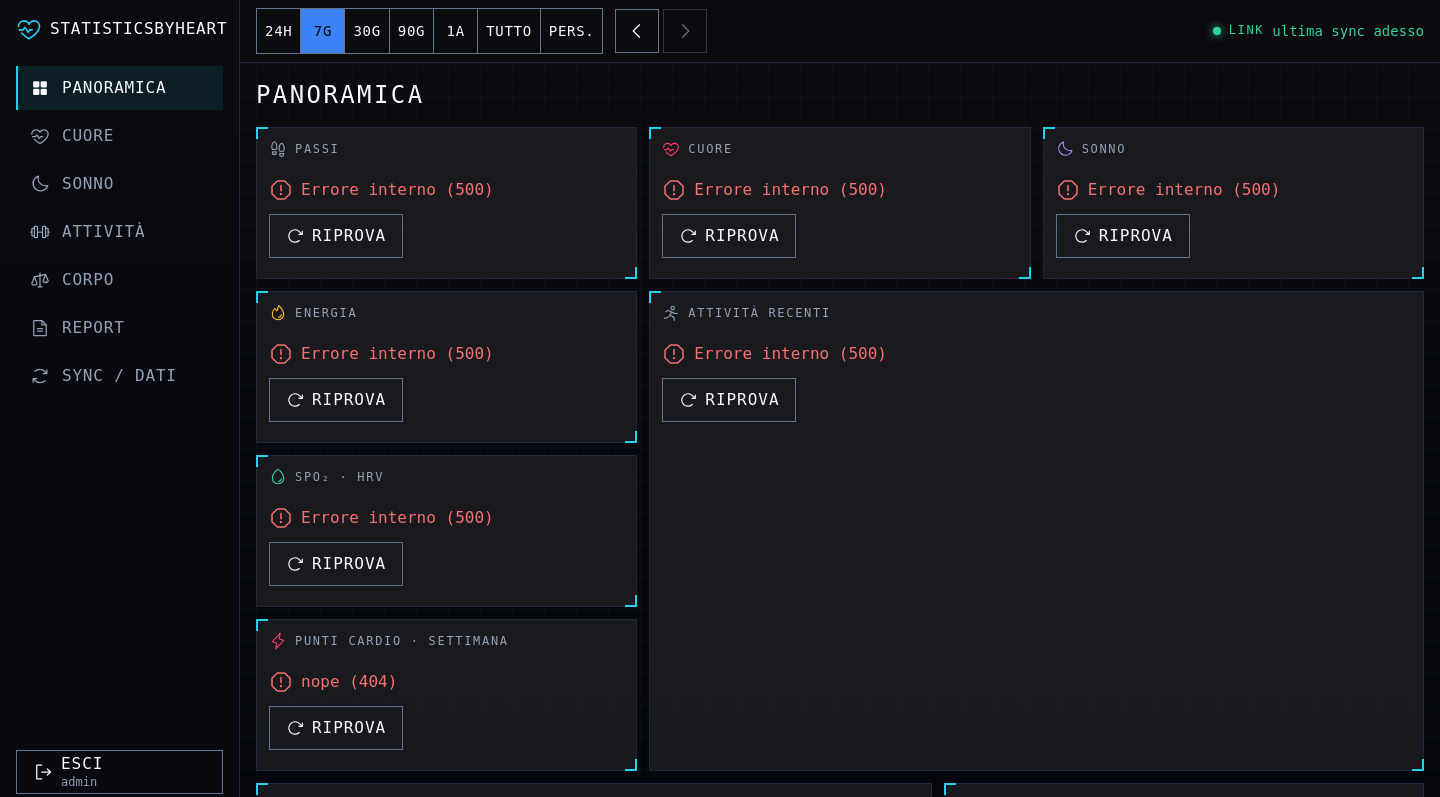
Test: overview › shows an error with a retry button, then recovers
Expected: the 1st message with test id "error-state" shows "Errore interno", [301, 180, 494, 199]
Step 1. Click the 1st button "Riprova" → {"x": 336, "y": 236}, box [269, 214, 403, 258]
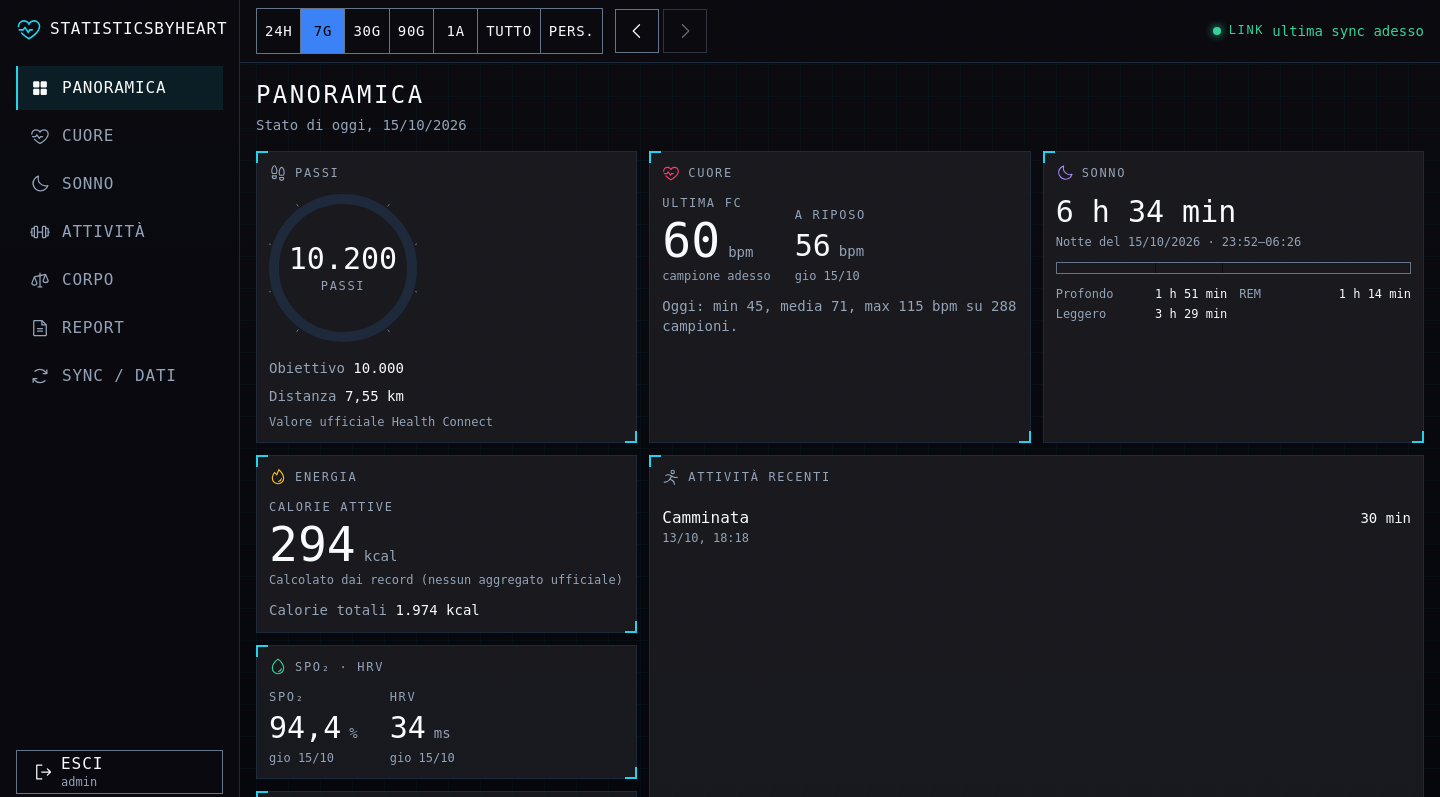
Expected: the text with test id "steps-value" reads "10.200", [289, 241, 397, 276]
